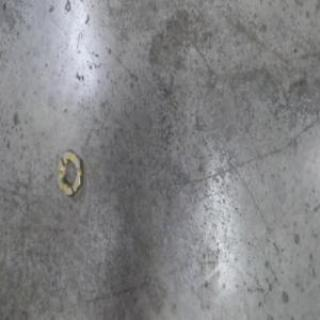Nuttrack_idkeyframe: (54, 148, 84, 199)
